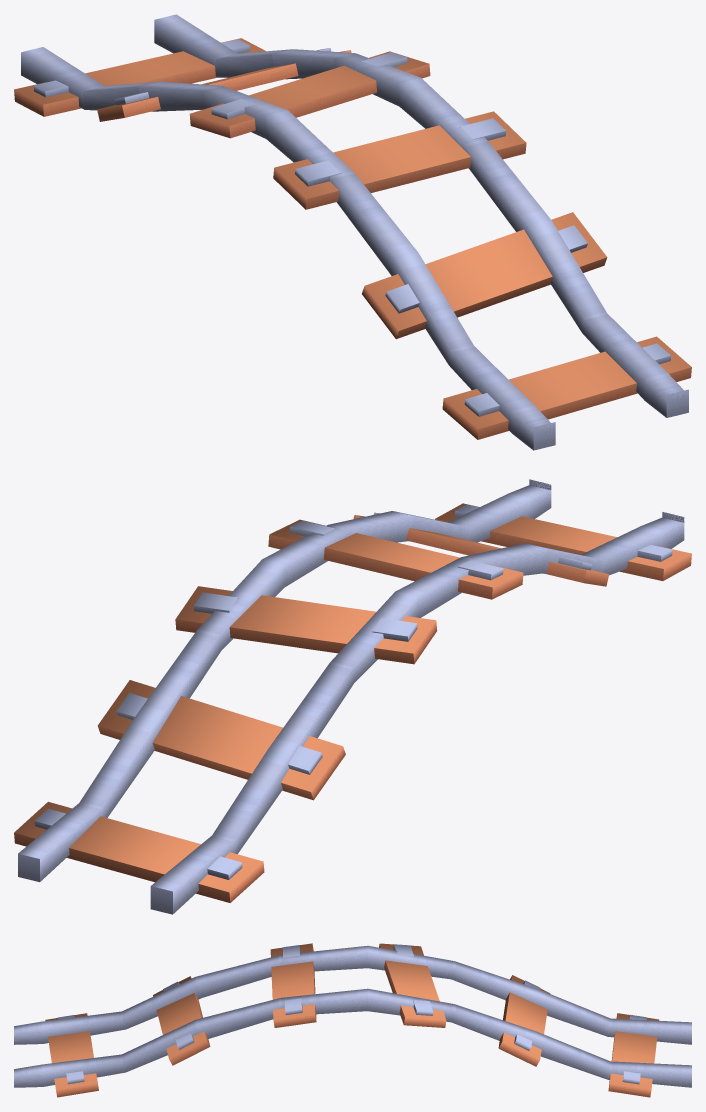
File: railroad-damaged-straight-bump-up.glb
3 renders of one model, top to bottom at view 1: azimuth 30°, elevation 25°; view 2: azimuth 150°, elevation 25°; view 3: azimuth 270°, elevation 25°, orthographic. The views are drawn at different scales.
Parts seen in each view (by area): view 1: railroad-damaged-straight-bump-up; view 2: railroad-damaged-straight-bump-up; view 3: railroad-damaged-straight-bump-up.
Boxes of the visible parts, x1,y1,x2,y2 form: railroad-damaged-straight-bump-up: [14, 14, 691, 450]; railroad-damaged-straight-bump-up: [14, 479, 691, 914]; railroad-damaged-straight-bump-up: [14, 943, 691, 1097].
Bounding box in the file's own units: 1.03 × 0.5986 × 4.
Materials: 1 (1 with a texture image).
